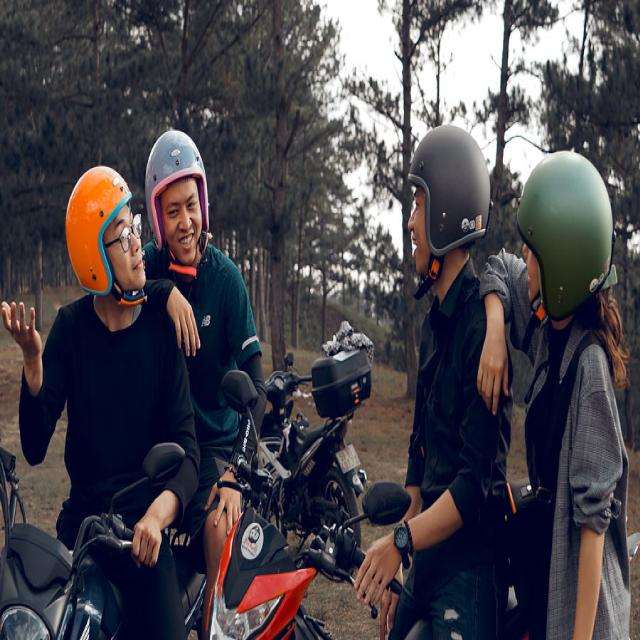helmet: (516, 151, 615, 321), (407, 124, 492, 258), (65, 165, 132, 296), (144, 130, 209, 252)
